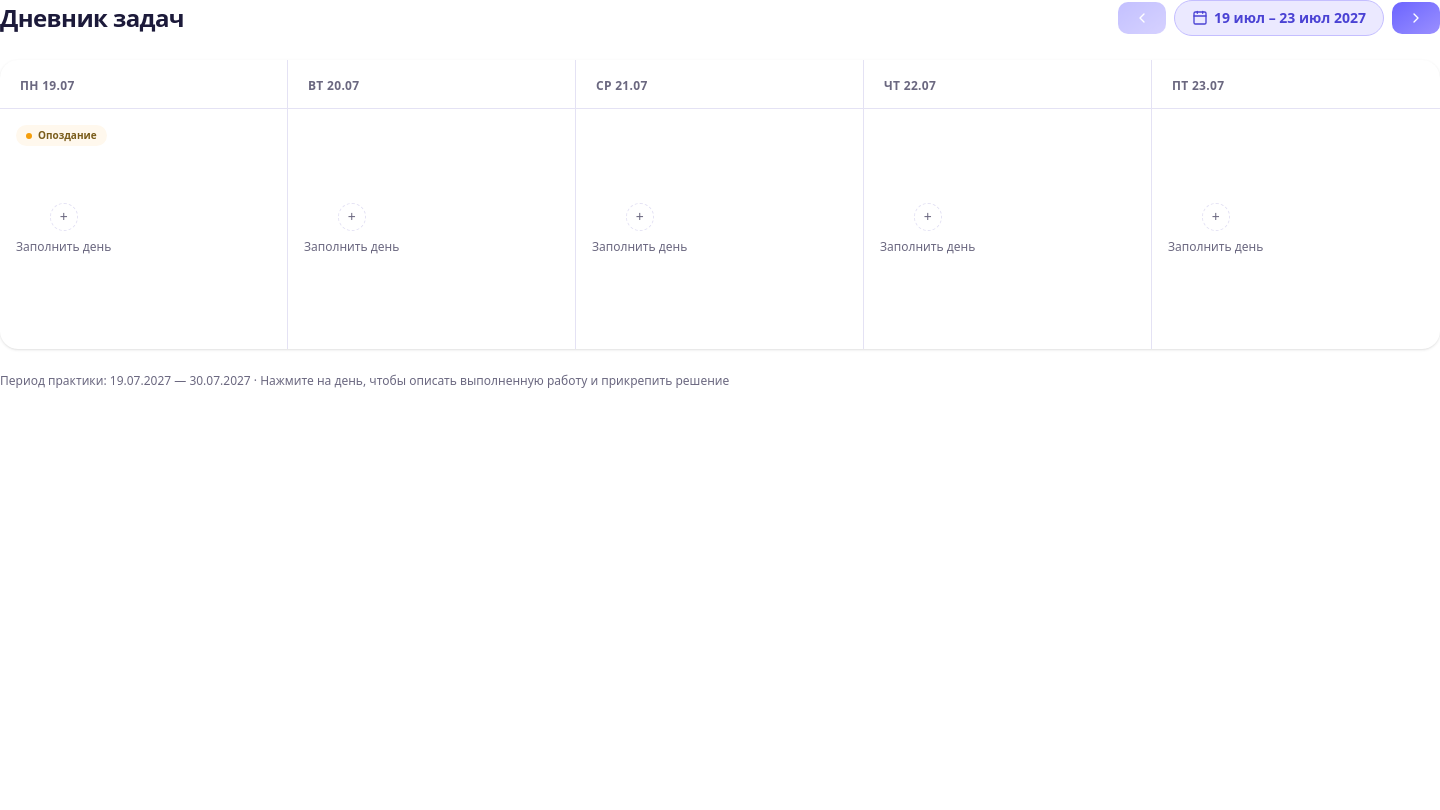
Scenario: DashboardTasksPage (дневник задач) › показывает ошибку валидации при повторяющихся ссылках
This screenshot has width=1440, height=810.
Click the button "Опоздание + Заполнить день" at (144, 229), box left=16, top=125, right=271, bottom=333
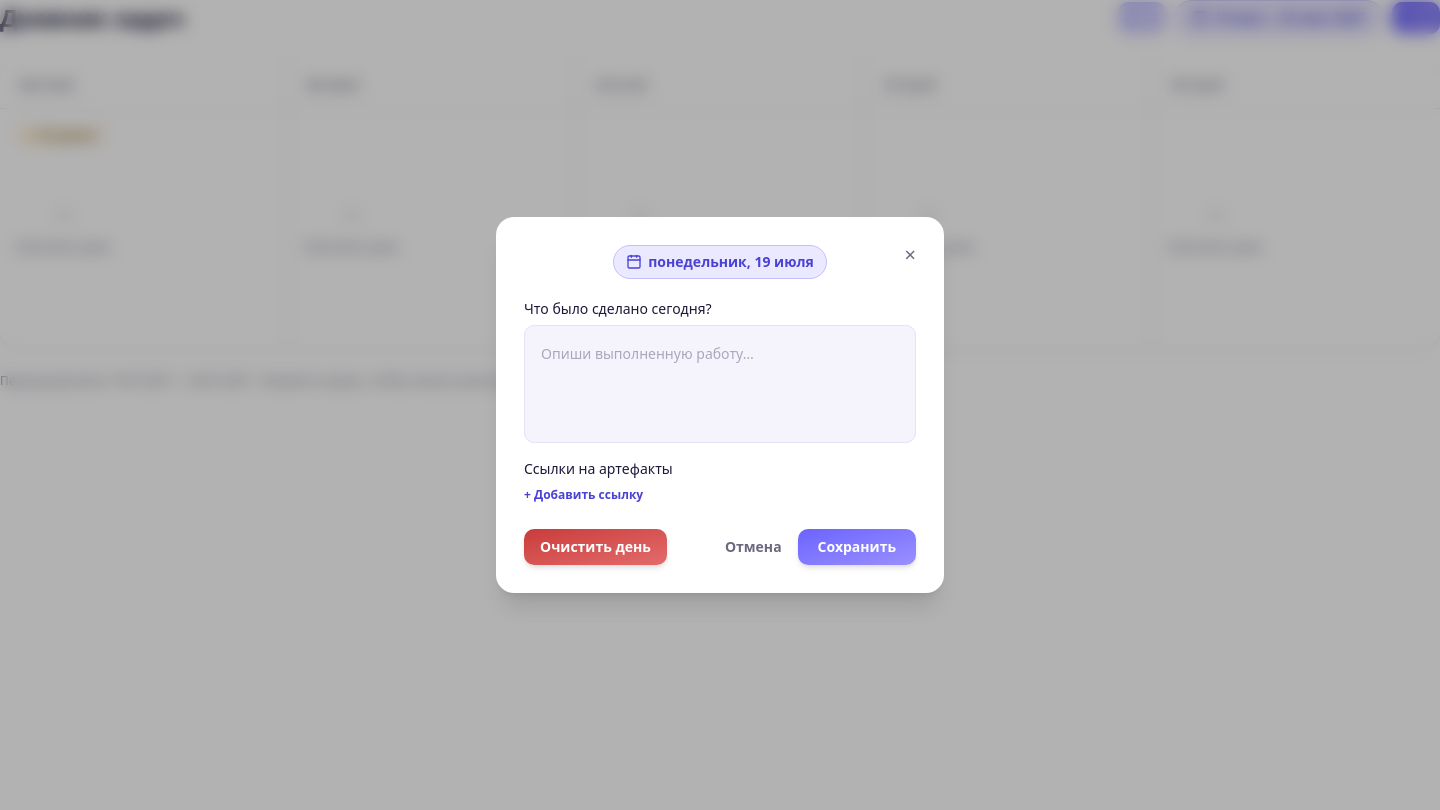
Click the button "+ Добавить ссылку" at (584, 496), box left=524, top=487, right=643, bottom=505
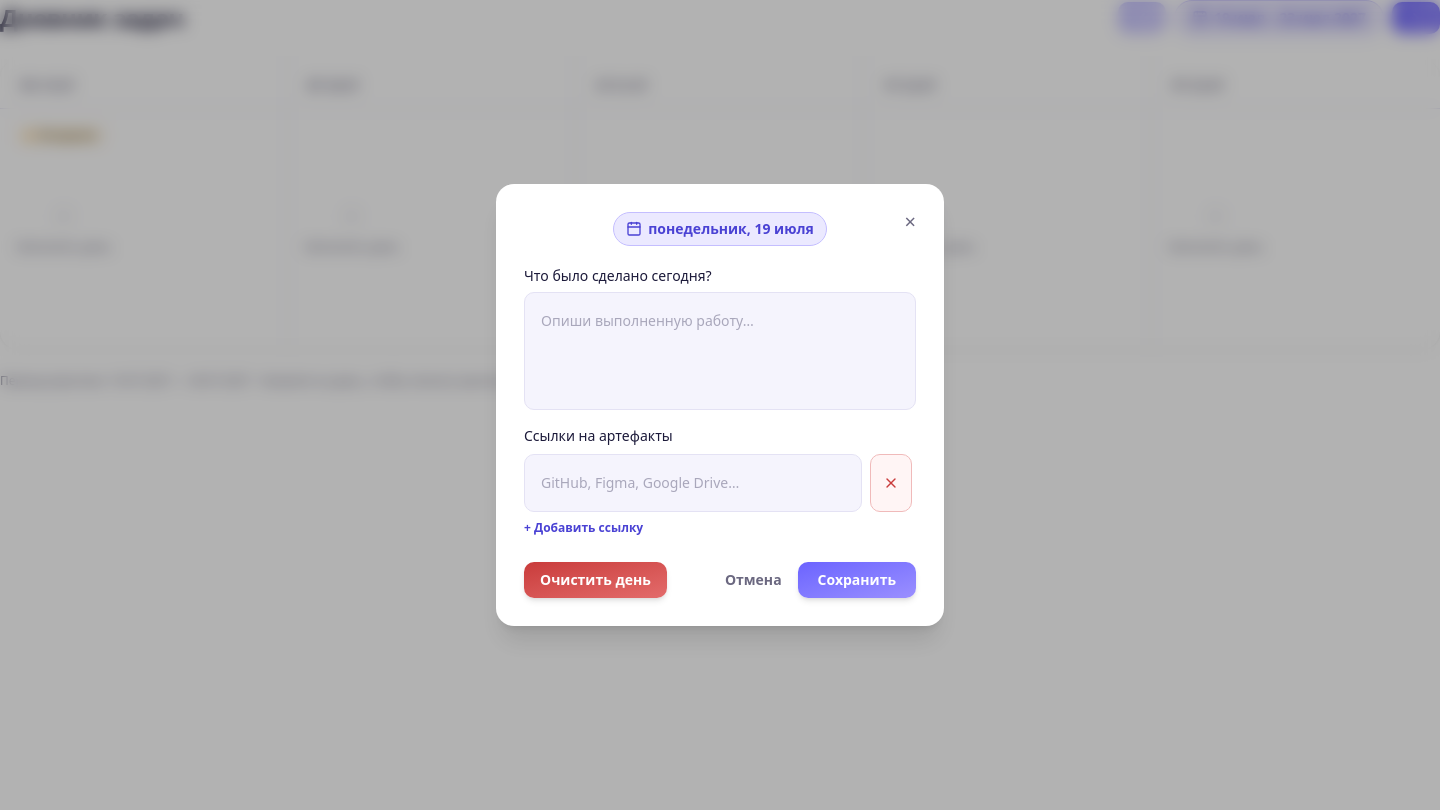
Click the button "+ Добавить ссылку" at (584, 529), box left=524, top=520, right=643, bottom=538
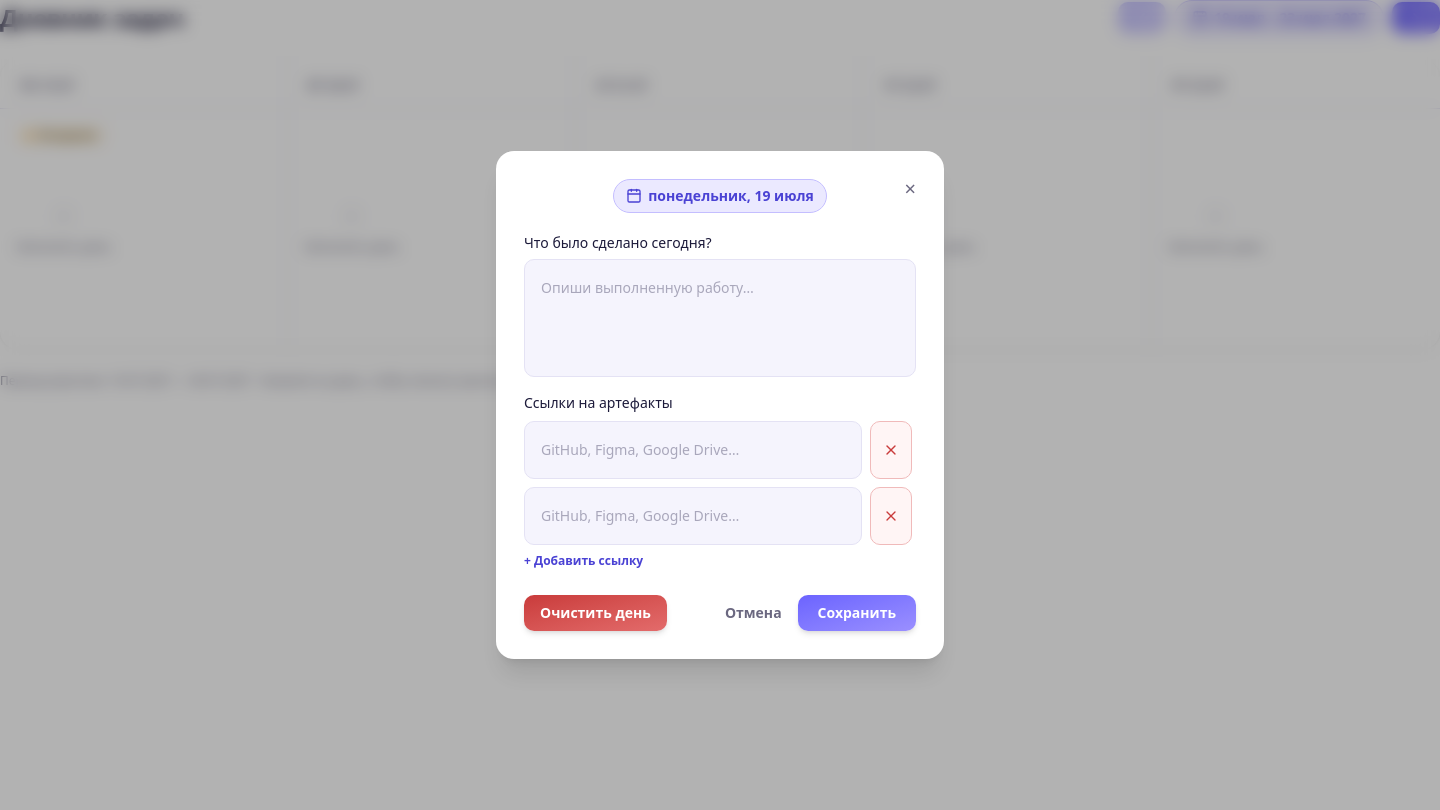
Type "https://a.com" into the 1st field with placeholder "GitHub, Figma, Google Drive…" at (693, 450), box left=524, top=421, right=862, bottom=479
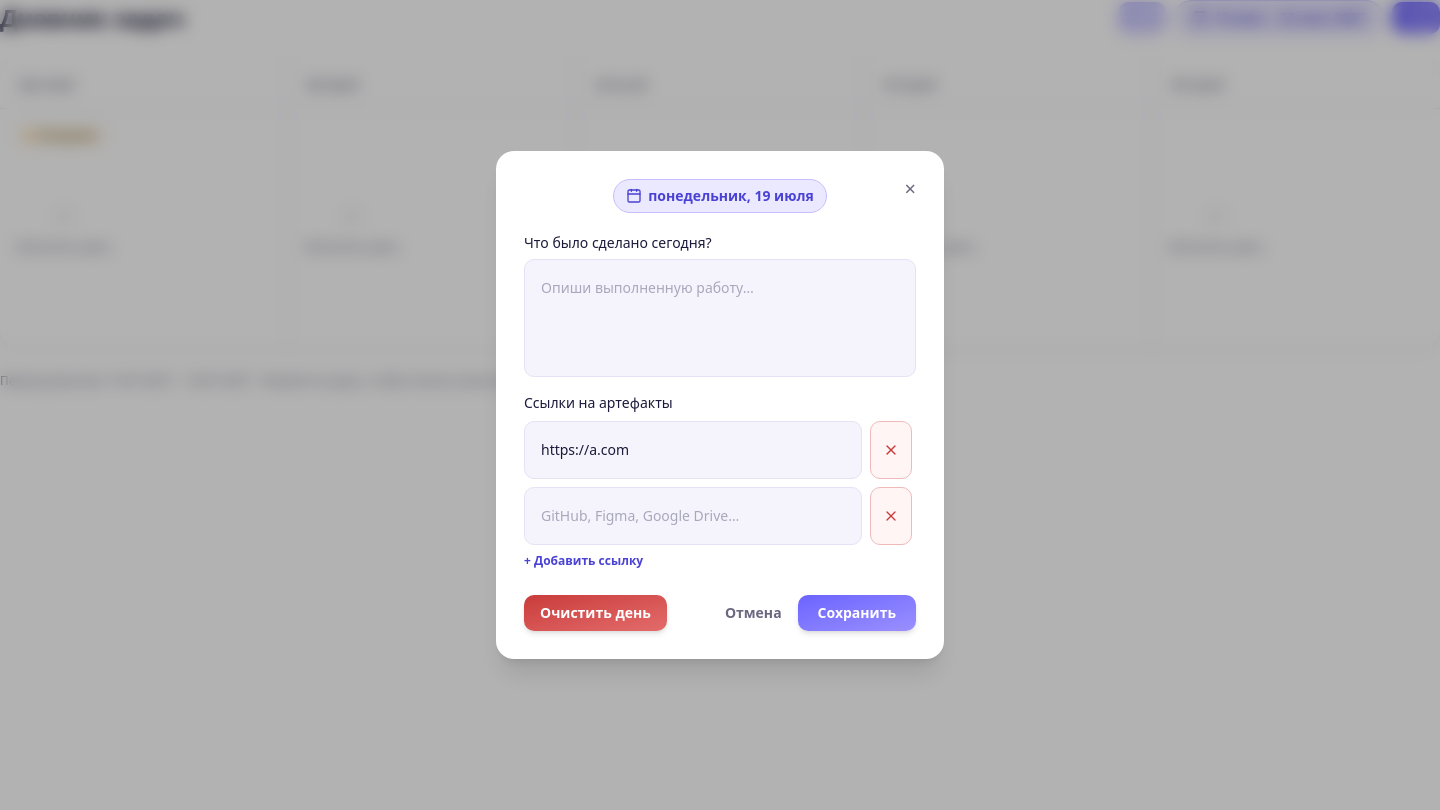
Type "https://a.com" into the field with placeholder "GitHub, Figma, Google Drive…" at (693, 516), box left=524, top=487, right=862, bottom=545
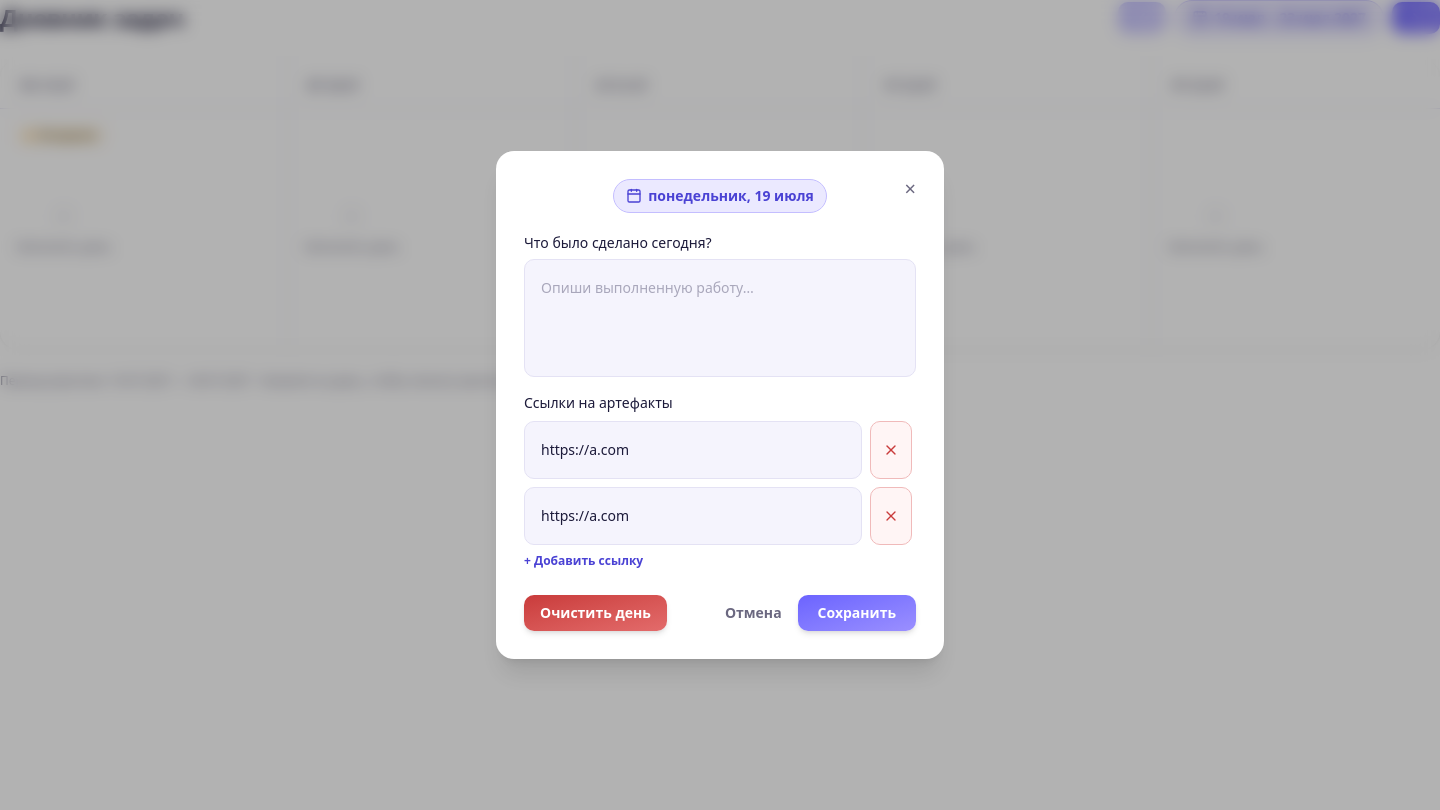
Click the button "Сохранить" at (857, 613), box left=798, top=595, right=916, bottom=631
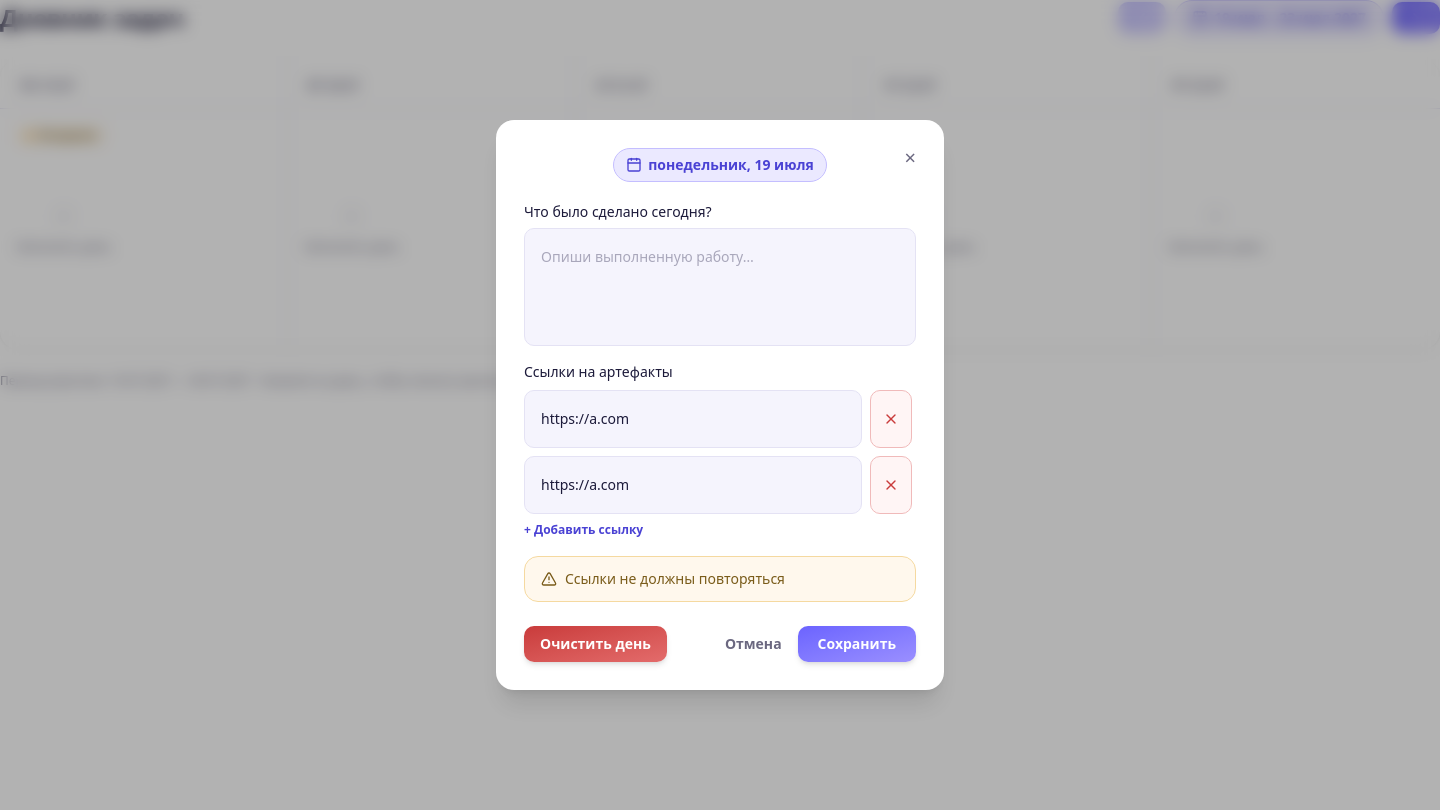
Now the text "Ссылки не должны повторяться" is shown, box left=565, top=569, right=785, bottom=589
